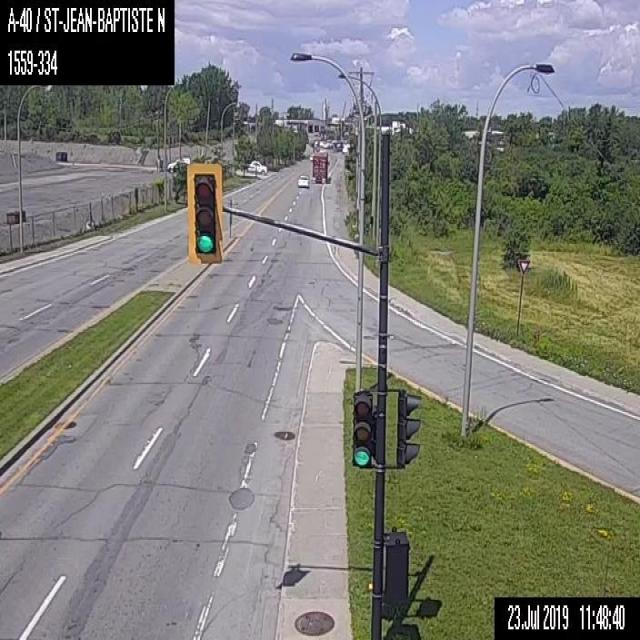vehicle: (312, 151, 327, 180), (167, 156, 189, 171), (246, 159, 266, 173), (296, 174, 308, 187)
